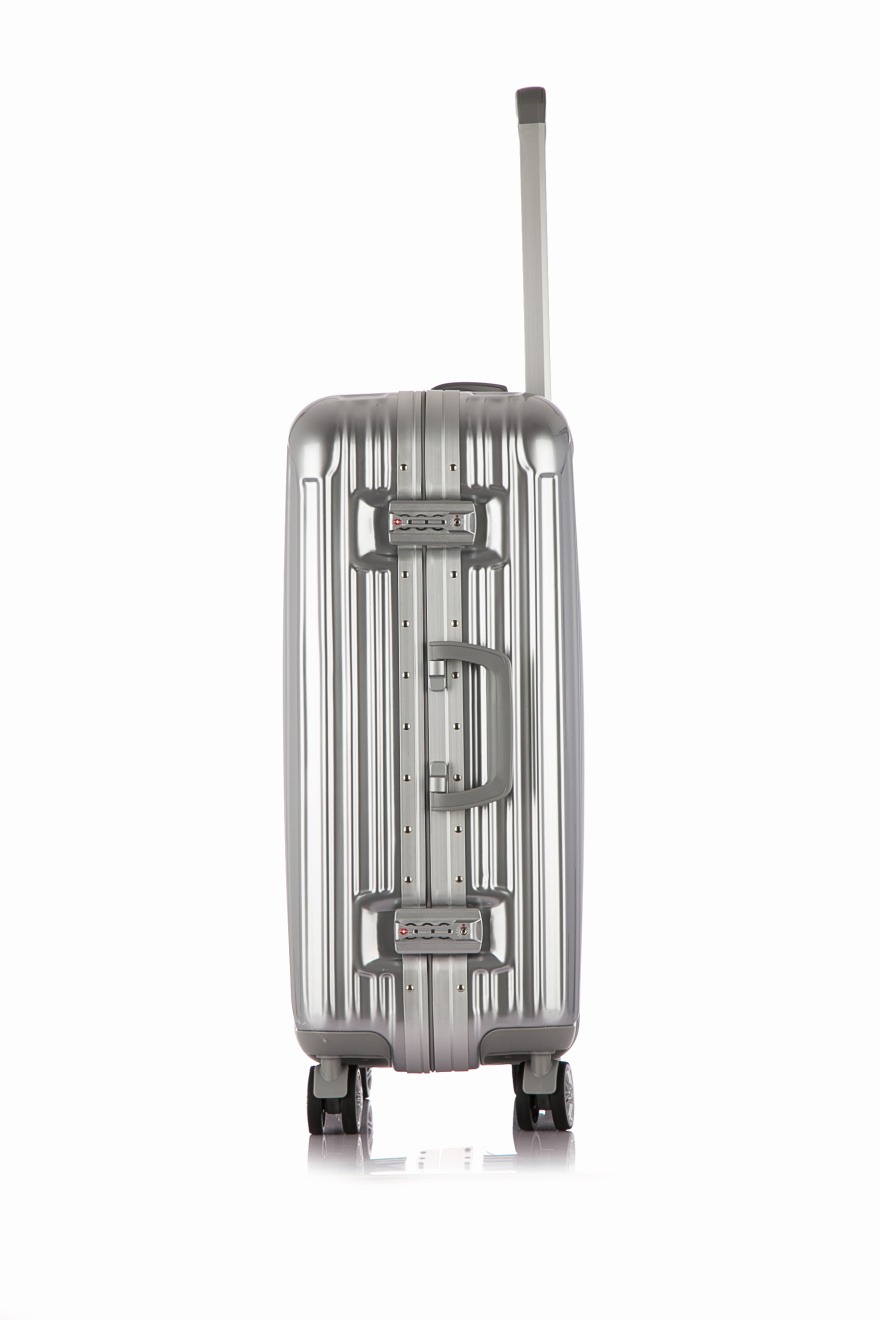luggage: (277, 88, 588, 1133)
